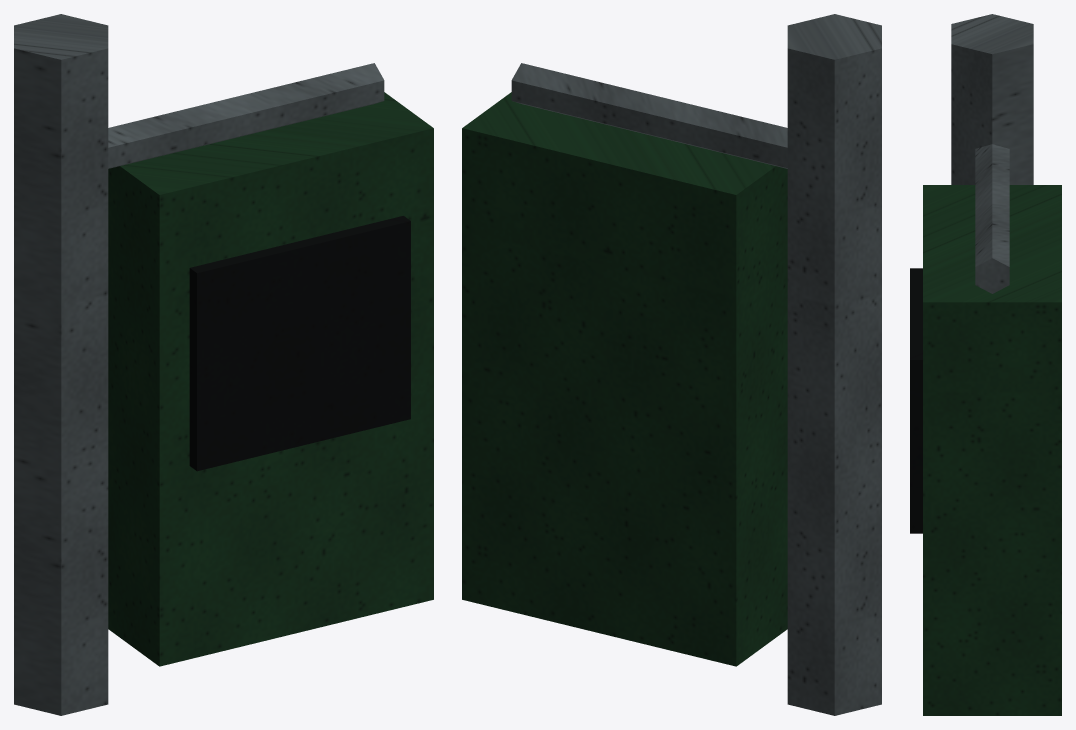
File: PROP-63E86F575D7C_lod2.glb
3 views of the same model, side by side, from view 1: azimuth 30°, elevation 25°; view 2: azimuth 150°, elevation 25°; view 3: azimuth 270°, elevation 25° (orthographic). The views are drawn at different scales.
Parts seen in each view (by area): view 1: cabinet.001, vent_stack.001, recessed_front.001, conduit.001; view 2: cabinet.001, vent_stack.001, conduit.001; view 3: cabinet.001, vent_stack.001, conduit.001, recessed_front.001.
Boxes of the visible parts, box(x1,y1,x2,y2) form: cabinet.001: box(108, 92, 433, 666); vent_stack.001: box(14, 14, 108, 715); recessed_front.001: box(189, 216, 410, 471); conduit.001: box(108, 63, 384, 168); cabinet.001: box(462, 92, 787, 666); vent_stack.001: box(787, 14, 881, 715); conduit.001: box(511, 63, 787, 168); cabinet.001: box(923, 185, 1061, 715); vent_stack.001: box(951, 14, 1033, 184); conduit.001: box(975, 144, 1009, 293); recessed_front.001: box(910, 268, 922, 533).
Size of the model in its own units: 0.97 by 1.6 by 0.3825.
Materials: 3 (3 with a texture image).
